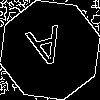A: (25, 25, 69, 78)
